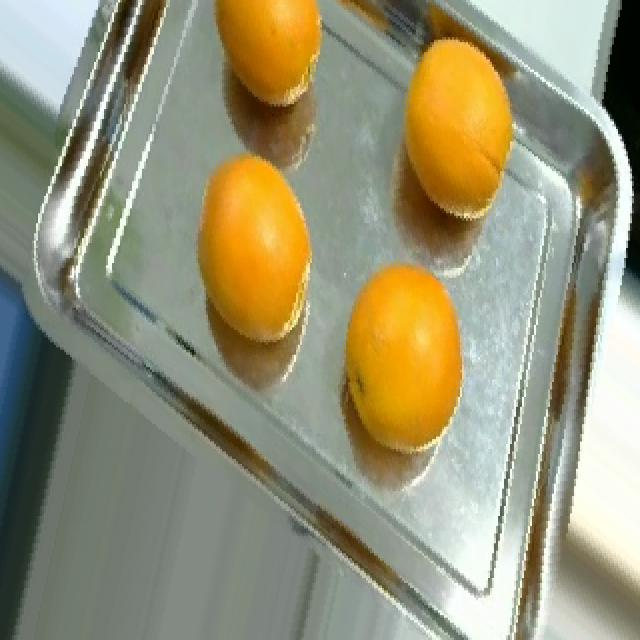Fruit: (326, 238, 482, 462), (174, 134, 330, 347), (190, 0, 354, 146), (584, 0, 640, 169)
